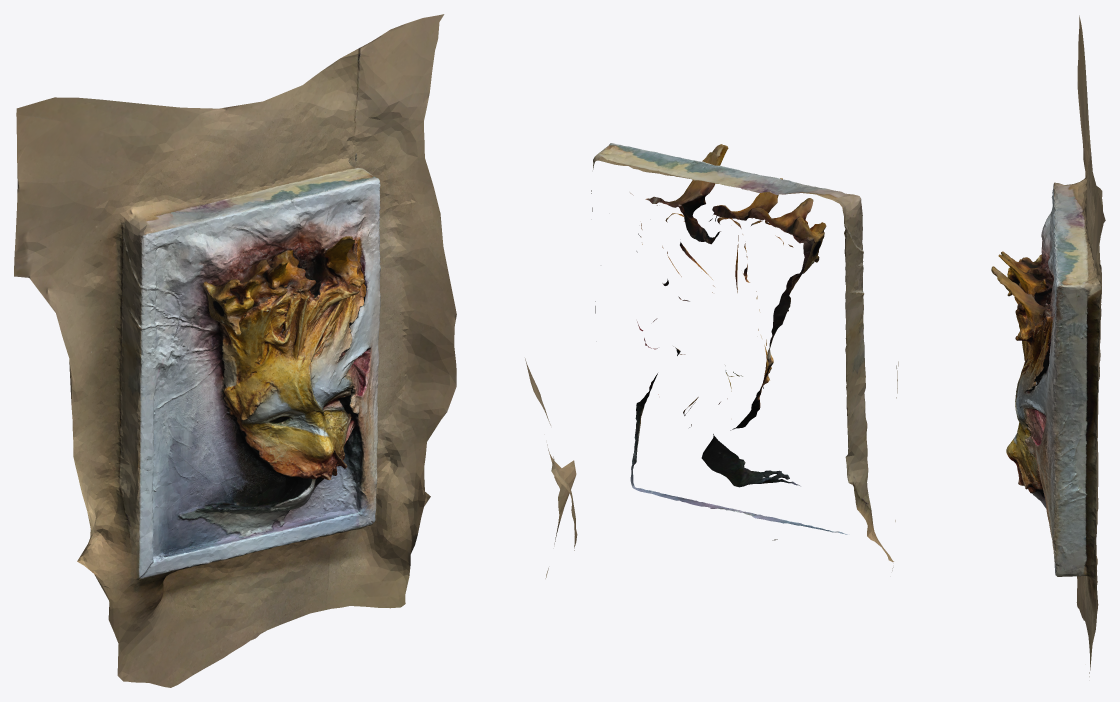
File: broken-english.glb
The picture shows the model from 3 angles, left to right: view 1: azimuth 30°, elevation 25°; view 2: azimuth 150°, elevation 25°; view 3: azimuth 270°, elevation 25°; orthographic projection. The views are drawn at different scales.
Size of the model in its own units: 2.15 by 2.85 by 0.5615.
1 material, 1 textured.
